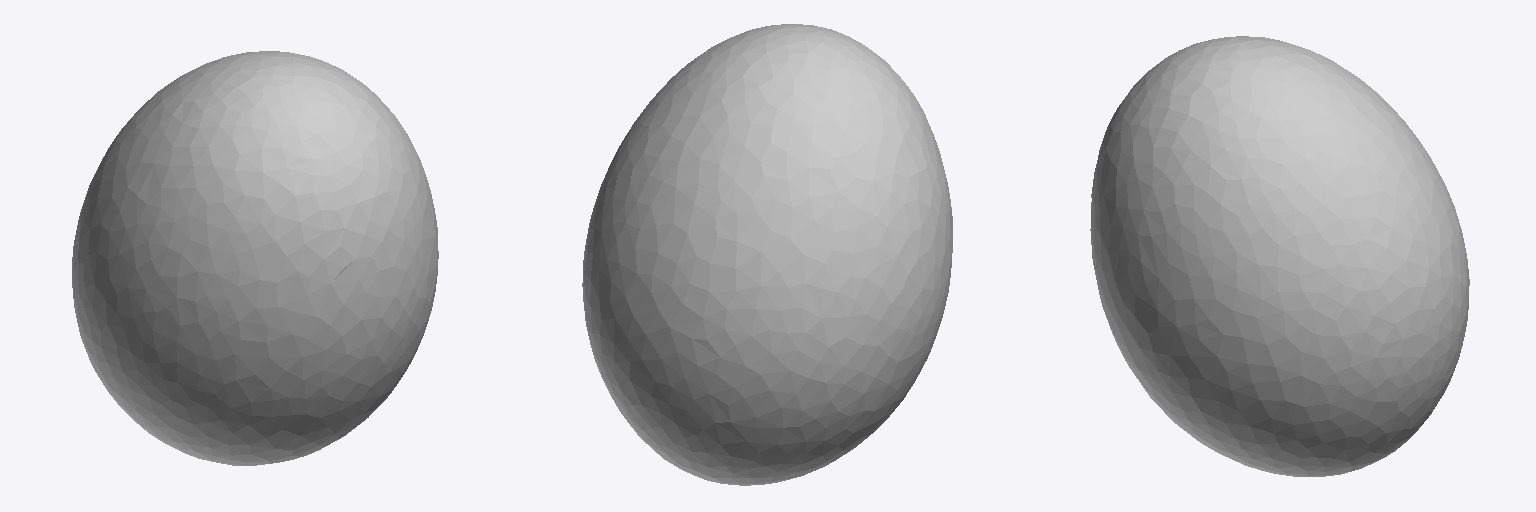
File: Egg.obj
3 views of the same model, side by side, from view 1: azimuth 30°, elevation 25°; view 2: azimuth 150°, elevation 25°; view 3: azimuth 270°, elevation 25° (orthographic).
Visible parts, largest first — view 1: Upload; view 2: Upload; view 3: Upload.
Part boxes in pixels (x1,y1,x2,y2): Upload: (72,51,438,465); Upload: (582,24,952,485); Upload: (1090,36,1469,476).
Size of the model in its own units: 1.6 by 1.99 by 1.66.